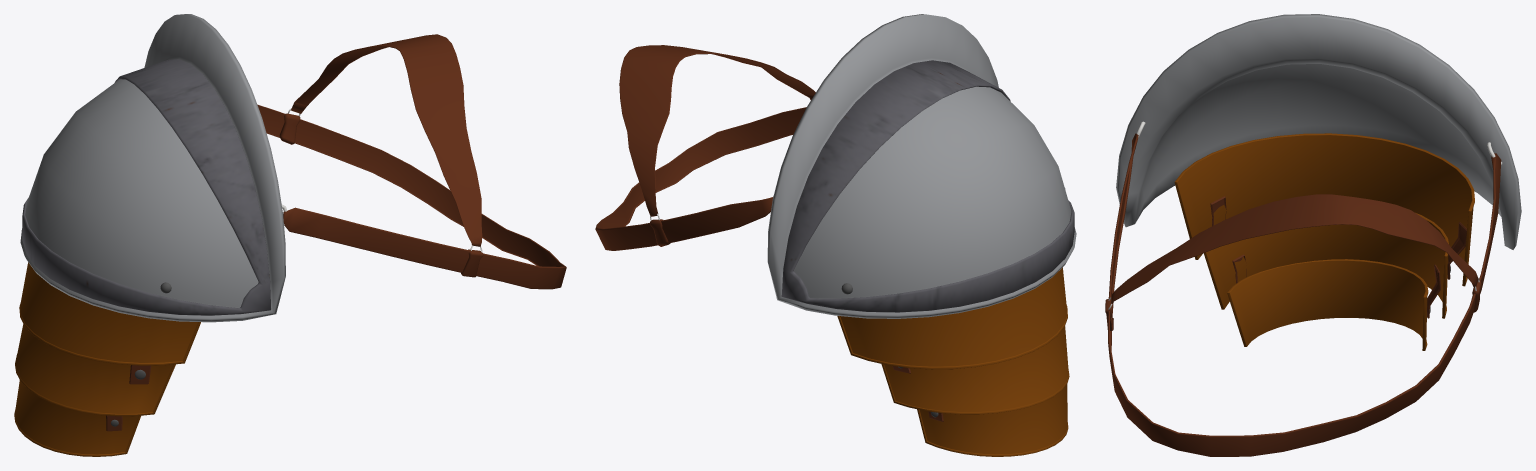
File: BPtestexport.fbx
3 views of the same model, side by side, from view 1: azimuth 30°, elevation 25°; view 2: azimuth 150°, elevation 25°; view 3: azimuth 270°, elevation 25° (orthographic). The views are drawn at different scales.
Parts seen in each view (by area): view 1: Attach.004, Plate.004, Attach.003, BezierCurve.001, BezierCurve.002, Cylinder.011; view 2: Attach.004, Plate.004, Attach.003, BezierCurve.001, BezierCurve.002; view 3: Attach.004, Plate.004, BezierCurve.001, BezierCurve.002, Cylinder.011.
Boxes of the visible parts, x1,y1,x2,y2 form: Attach.004: (20, 14, 285, 322); Plate.004: (14, 262, 200, 456); Attach.003: (22, 59, 270, 315); BezierCurve.001: (257, 104, 566, 289); BezierCurve.002: (291, 34, 482, 246); Cylinder.011: (106, 365, 151, 431); Attach.004: (767, 14, 1076, 318); Plate.004: (837, 267, 1069, 456); Attach.003: (781, 60, 1074, 312); BezierCurve.001: (595, 107, 806, 250); BezierCurve.002: (619, 45, 815, 216); Attach.004: (1116, 14, 1521, 249); Plate.004: (1174, 133, 1474, 350); BezierCurve.001: (1108, 133, 1501, 456); BezierCurve.002: (1110, 194, 1478, 304); Cylinder.011: (1210, 196, 1466, 318).
Size of the model in its own units: 47.53 by 36.26 by 34.49.
1 material, 1 textured.
